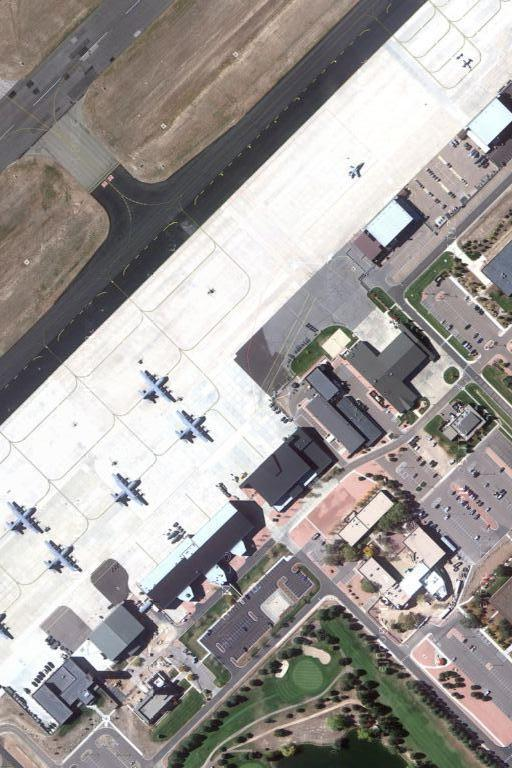C-130: (139, 364, 179, 406), (8, 497, 43, 542), (43, 539, 81, 578), (176, 409, 213, 446), (111, 473, 147, 511)
